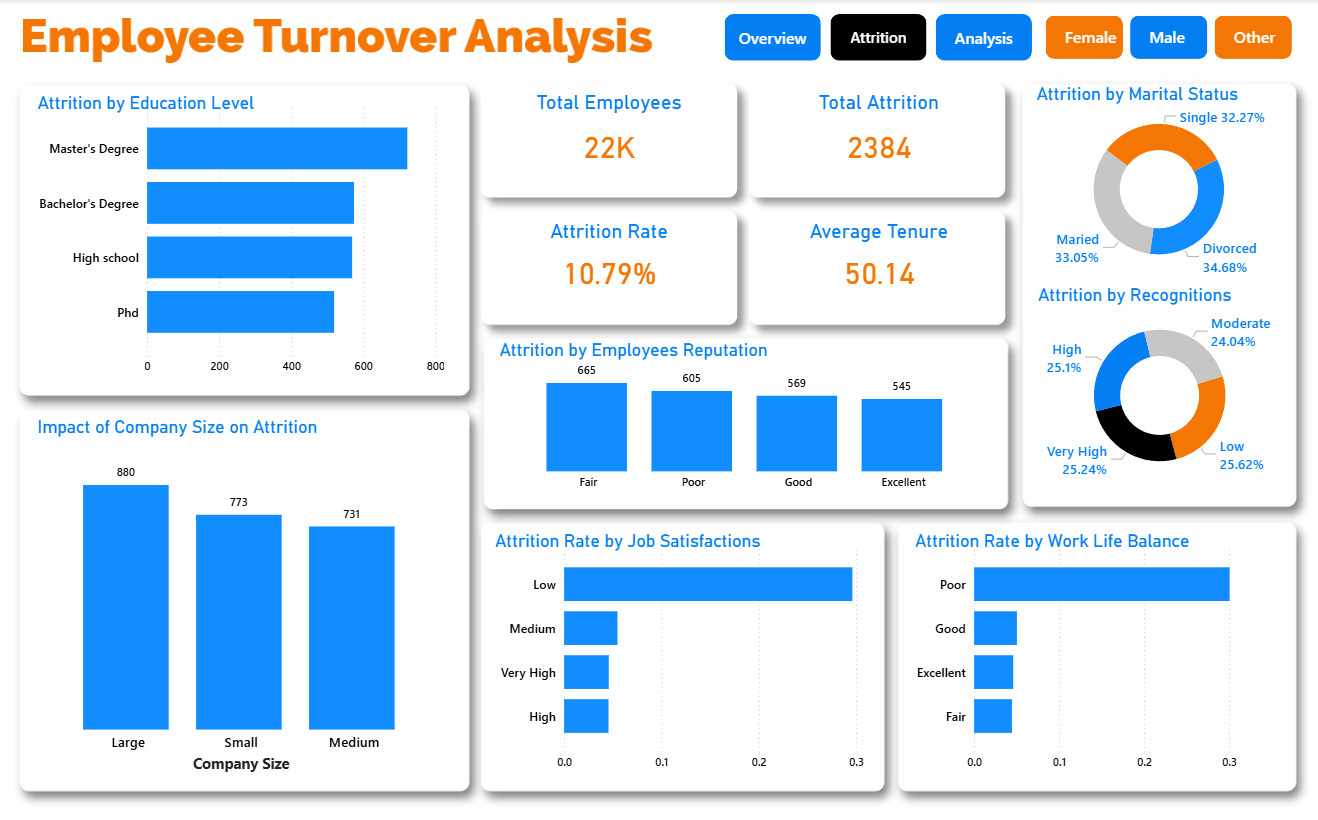

Layout of this report page (visuals, bound fields, positions):
{"tool":"powerbi","page":{"name":"Attrition","canvas":[1440,900],"ordinal":1},"visuals":[{"type":"card","fields":{"Values":["public employee_attrition_dataset.total_employee"]},"box":[543.4,124.4,248.7,69.8],"z":0},{"type":"card","fields":{"Values":["public employee_attrition_dataset.total_attrition"]},"box":[841.5,124.4,238.5,69.8],"z":1000},{"type":"card","fields":{"Values":["public employee_attrition_dataset.attrition_rate"]},"box":[543.4,264,248.7,63],"z":2000},{"type":"card","fields":{"Values":["public employee_attrition_dataset.avg_tenure"]},"box":[841.5,264,238.5,63],"z":3000},{"type":"textbox","box":[543.4,95.4,248.7,40.9],"z":4000},{"type":"textbox","box":[841.5,95.4,238.5,40.9],"z":5000},{"type":"textbox","box":[543.4,235.1,248.7,40.9],"z":6000},{"type":"textbox","box":[841.5,235.1,238.5,40.9],"z":7000},{"type":"clusteredBarChart","fields":{"Y":["public employee_attrition_dataset.attrition_rate"],"Category":["public employee_attrition_dataset.Job Satisfaction Label"]},"box":[543.4,586,407.1,262.3],"z":8000},{"type":"clusteredBarChart","fields":{"Y":["public employee_attrition_dataset.attrition_rate"],"Category":["public employee_attrition_dataset.Work-Life Balance Label"]},"box":[994.8,586,407.1,262.3],"z":9000},{"type":"donutChart","fields":{"Y":["public employee_attrition_dataset.attrition_rate"],"Category":["public employee_attrition_dataset.Recognition Label"]},"box":[1129.4,327.1,274.3,209.5],"z":10000},{"type":"donutChart","fields":{"Y":["public employee_attrition_dataset.attrition_rate"],"Category":["public employee_attrition_dataset.Marital Status"]},"box":[1129.4,102.2,272.6,207.8],"z":11000},{"type":"clusteredColumnChart","fields":{"Category":["public employee_attrition_dataset.Company Size"],"Y":["public employee_attrition_dataset.total_attrition"]},"box":[39.2,490.6,453.1,357.7],"z":12000},{"type":"clusteredBarChart","fields":{"Category":["public employee_attrition_dataset.Education Level"],"Y":["public employee_attrition_dataset.total_attrition"]},"box":[39.2,102.2,453.1,315.1],"z":13000},{"type":"clusteredColumnChart","fields":{"Y":["public employee_attrition_dataset.total_attrition"],"Category":["public employee_attrition_dataset.Reputation Label"]},"box":[546.8,381.6,536.6,163.5],"z":14000},{"type":"textbox","box":[538.3,574.1,417.4,54.5],"z":15000},{"type":"textbox","box":[994.8,574.1,417.4,54.5],"z":16000},{"type":"textbox","box":[39.2,449.7,417.4,54.5],"z":17000},{"type":"textbox","box":[39.2,97.1,417.4,54.5],"z":18000},{"type":"textbox","box":[543.4,366.2,417.4,54.5],"z":19000},{"type":"textbox","box":[1127.7,86.9,274.3,54.5],"z":20000},{"type":"textbox","box":[1129.4,304.9,274.3,39.2],"z":21000},{"type":"advancedSlicerVisual","fields":{"Values":["public employee_attrition_dataset.Gender"]},"box":[1136.9,13,278.2,57.5],"z":22000},{"type":"pageNavigator","box":[791.9,16.7,337.5,51.9],"z":23000}]}

Visuals, with their boxes in screenshot pixels (x1, y1, x2, y2), scaled from the page's 1440x900 canvas onto the 1318x820 screenshot:
card - public employee_attrition_dataset.total_employee: {"left": 497, "top": 113, "right": 725, "bottom": 177}
card - public employee_attrition_dataset.total_attrition: {"left": 770, "top": 113, "right": 988, "bottom": 177}
card - public employee_attrition_dataset.attrition_rate: {"left": 497, "top": 241, "right": 725, "bottom": 298}
card - public employee_attrition_dataset.avg_tenure: {"left": 770, "top": 241, "right": 988, "bottom": 298}
textbox: {"left": 497, "top": 87, "right": 725, "bottom": 124}
textbox: {"left": 770, "top": 87, "right": 988, "bottom": 124}
textbox: {"left": 497, "top": 214, "right": 725, "bottom": 251}
textbox: {"left": 770, "top": 214, "right": 988, "bottom": 251}
clusteredBarChart - public employee_attrition_dataset.attrition_rate x public employee_attrition_dataset.Job Satisfaction Label: {"left": 497, "top": 534, "right": 870, "bottom": 773}
clusteredBarChart - public employee_attrition_dataset.attrition_rate x public employee_attrition_dataset.Work-Life Balance Label: {"left": 911, "top": 534, "right": 1283, "bottom": 773}
donutChart - public employee_attrition_dataset.attrition_rate x public employee_attrition_dataset.Recognition Label: {"left": 1034, "top": 298, "right": 1285, "bottom": 489}
donutChart - public employee_attrition_dataset.attrition_rate x public employee_attrition_dataset.Marital Status: {"left": 1034, "top": 93, "right": 1283, "bottom": 282}
clusteredColumnChart - public employee_attrition_dataset.Company Size x public employee_attrition_dataset.total_attrition: {"left": 36, "top": 447, "right": 451, "bottom": 773}
clusteredBarChart - public employee_attrition_dataset.Education Level x public employee_attrition_dataset.total_attrition: {"left": 36, "top": 93, "right": 451, "bottom": 380}
clusteredColumnChart - public employee_attrition_dataset.total_attrition x public employee_attrition_dataset.Reputation Label: {"left": 500, "top": 348, "right": 992, "bottom": 497}
textbox: {"left": 493, "top": 523, "right": 875, "bottom": 573}
textbox: {"left": 911, "top": 523, "right": 1293, "bottom": 573}
textbox: {"left": 36, "top": 410, "right": 418, "bottom": 459}
textbox: {"left": 36, "top": 88, "right": 418, "bottom": 138}
textbox: {"left": 497, "top": 334, "right": 879, "bottom": 383}
textbox: {"left": 1032, "top": 79, "right": 1283, "bottom": 129}
textbox: {"left": 1034, "top": 278, "right": 1285, "bottom": 314}
advancedSlicerVisual - public employee_attrition_dataset.Gender: {"left": 1041, "top": 12, "right": 1295, "bottom": 64}
pageNavigator: {"left": 725, "top": 15, "right": 1034, "bottom": 63}
